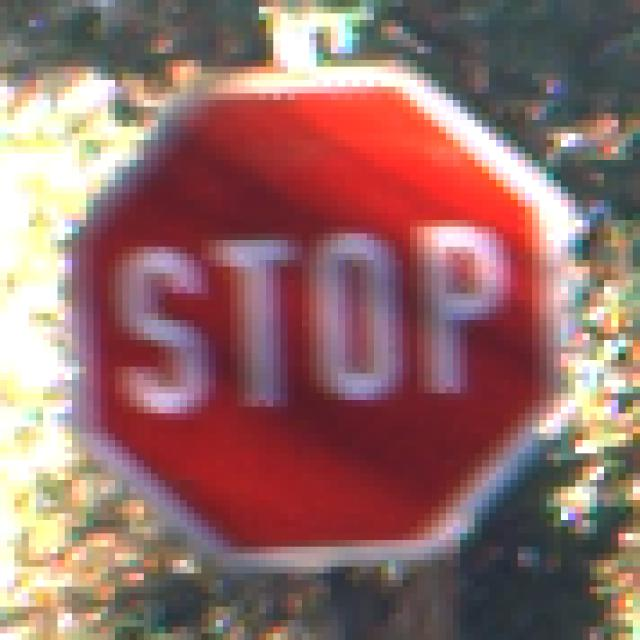STOP: (59, 54, 591, 588)
